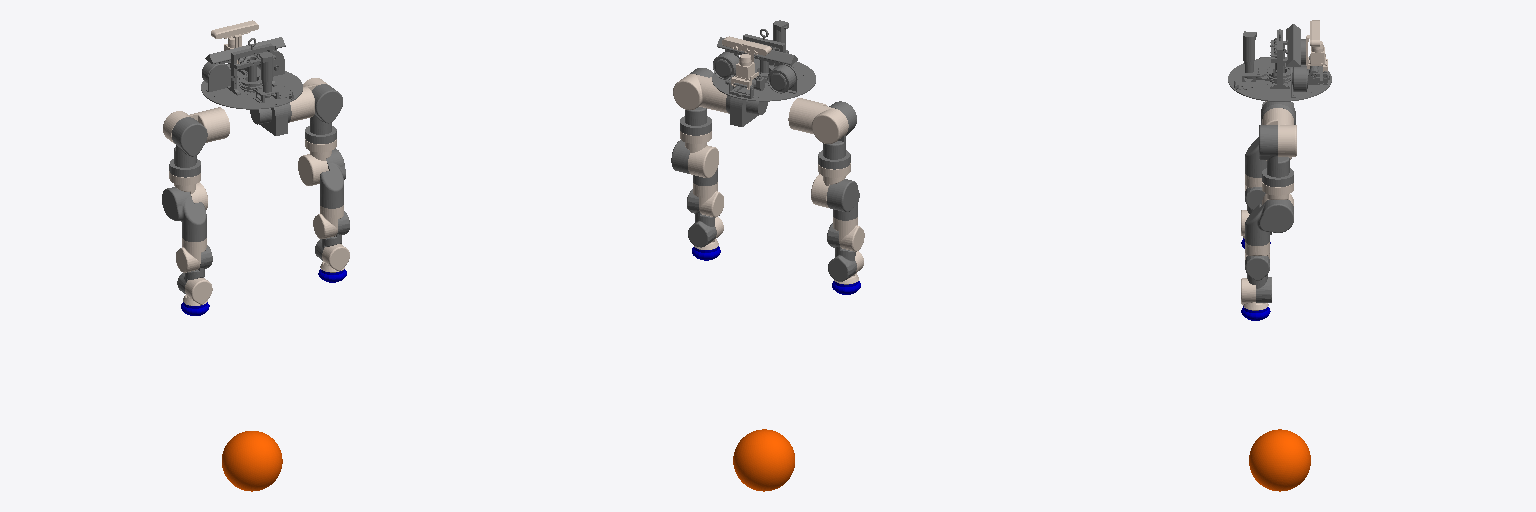
--- Render facts (derived) ---
3 views of the same robot in one strip: view 1: azimuth 30°, elevation 25°; view 2: azimuth 150°, elevation 25°; view 3: azimuth 270°, elevation 25° (orthographic).
Robot: ballbot — 30 links, 29 joints (7 revolute, 2 prismatic, 20 fixed); root link base_link; default pose: all joints at 0.
Links seen in each view (by area): view 1: turret_plate_link, Link_Ball, LArm2, LArm4, RArm2, RArm4, LArm1, RArm3, RArm0, RArm1, LArm5, RArm5 (+4 smaller); view 2: turret_plate_link, Link_Ball, LArm1, RArm1, RArm3, LArm2, turret_tilt_link, LArm4, LArm6, RArm6, RArm2, RArm0 (+4 smaller); view 3: turret_plate_link, Link_Ball, RArm4, RArm2, RArm1, RArm6, turret_tilt_link, LArm4.
Link boxes in pixels (bbox=[...]): turret_plate_link: bbox=[201, 37, 302, 109]; Link_Ball: bbox=[222, 431, 282, 491]; LArm2: bbox=[169, 117, 207, 177]; LArm4: bbox=[162, 187, 206, 241]; RArm2: bbox=[305, 84, 342, 143]; RArm4: bbox=[320, 148, 345, 208]; LArm1: bbox=[163, 107, 229, 143]; RArm3: bbox=[298, 139, 336, 185]; RArm0: bbox=[250, 93, 291, 135]; RArm1: bbox=[289, 78, 329, 122]; LArm5: bbox=[176, 238, 206, 272]; RArm5: bbox=[313, 205, 343, 238]; turret_plate_link: bbox=[712, 20, 815, 101]; Link_Ball: bbox=[733, 429, 794, 491]; LArm1: bbox=[788, 98, 848, 143]; RArm1: bbox=[673, 74, 728, 113]; RArm3: bbox=[680, 131, 718, 177]; LArm2: bbox=[818, 101, 856, 169]; turret_tilt_link: bbox=[722, 36, 771, 89]; LArm4: bbox=[827, 179, 859, 220]; LArm6: bbox=[827, 223, 856, 281]; RArm6: bbox=[687, 189, 716, 247]; RArm2: bbox=[680, 68, 713, 135]; RArm0: bbox=[726, 95, 767, 126]; turret_plate_link: bbox=[1228, 24, 1331, 101]; Link_Ball: bbox=[1249, 429, 1310, 491]; RArm4: bbox=[1245, 200, 1293, 245]; RArm2: bbox=[1259, 125, 1293, 186]; RArm1: bbox=[1262, 108, 1296, 156]; RArm6: bbox=[1245, 256, 1271, 302]; turret_tilt_link: bbox=[1306, 20, 1327, 71]; LArm4: bbox=[1245, 137, 1266, 177].
Size in the robot's own frame: 0.676 by 0.3556 by 1.73 metres.
20 mesh visuals loaded from 15 distinct referenced files (12 binary STL, 1 OBJ); not drawn: 2 (reference not matched to a file when rendering).

robot.urdf — ballbot:
<?xml version="1.0" encoding="utf-8"?>
<!-- =================================================================================== -->
<!-- |    This document was autogenerated by xacro from ballbot_plus_fixedbase.urdf.xacro | -->
<!-- |    EDITING THIS FILE BY HAND IS NOT RECOMMENDED                                 | -->
<!-- =================================================================================== -->
<!-- Overview: Ballbot Plus (ballbot + 2x7DOF arms) reprsented as a floating base system -->
<robot name="ballbot">
  <!-- CAD -->
  <material name="black">
    <color rgba="0.0 0.0 0.0 1.0"/>
  </material>

  <material name="cian">
    <color rgba="0.0 0.8 0.8 1.0"/>
  </material>

  <material name="blue">
    <color rgba="0.0 0.0 0.8 1.0"/>
  </material>
  <material name="green">
    <color rgba="0.0 0.8 0.0 1.0"/>
  </material>
  <material name="dark_grey">
    <color rgba="0.2 0.2 0.2 1.0"/>
  </material>
  <material name="grey">
    <color rgba="0.5 0.5 0.5 1.0"/>
  </material>
  <material name="light_grey">
    <color rgba="0.8 0.8 0.8 1.0"/>
  </material>
  <material name="orange">
    <color rgba="1.0 0.423529411765 0.0392156862745 1.0"/>
  </material>
  <material name="brown">
    <color rgba="0.870588235294 0.811764705882 0.764705882353 1.0"/>
  </material>
  <material name="white">
    <color rgba="1.0 1.0 1.0 1.0"/>
  </material>
  <material name="yellow">
    <color rgba="0.8 0.68 0.0 1.0"/>
  </material>
  <material name="red">
    <color rgba="1.0 0.0 0.0 1"/>
  </material>
  <material name="aluminum">
    <color rgba="0.5 0.5 0.5 1"/>
  </material>
  <!-- Use of macros to assemble the robot -->
  <!-- ====================================== -->
  <!-- Used for fixing robot to Gazebo 'base_link' -->
  <link name="base_link"/>
  <link name="Link_Xtran">
    <inertial>
      <origin xyz="0.00000 0.00000 0.00000"/>
      <mass value="0.00001"/>
      <inertia ixx="0.0000001" ixy="0.0" ixz="0.0" iyy="0.0000001" iyz="0.0" izz="0.0000001"/>
    </inertial>
  </link>
  <link name="Link_Ytran">
    <inertial>
      <origin xyz="0.00000 0.00000 0.00000"/>
      <mass value="0.00001"/>
      <inertia ixx="0.0000001" ixy="0.0" ixz="0.0" iyy="0.0000001" iyz="0.0" izz="0.0000001"/>
    </inertial>
  </link>
  <link name="Link_Ball">
    <visual>
      <origin rpy="0.0 0.0 0.0" xyz="0.0 0.0 0.0"/>
      <geometry>
        <mesh filename="package://ballbot_arm_description/meshes/v2020/ball.stl"/>
      </geometry>
      <material name="orange"/>
    </visual>
    <collision>
      <origin rpy="0 0 0" xyz="0 0 0"/>
      <geometry>
        <mesh filename="package://ballbot_arm_description/meshes/v2020/ball.stl"/>
      </geometry>
    </collision>
    <inertial>
      <origin xyz="0.0 0.0 0.0"/>
      <mass value="2.72"/>
      <inertia ixx="0.01220" ixy="0.00000" ixz="0.00000" iyy="0.01220" iyz="0.00000" izz="0.01220"/>
    </inertial>
  </link>
  <link name="Link_Pitch">
    <inertial>
      <origin xyz="0.00000 0.00000 0.00000"/>
      <mass value="0.00001"/>
      <inertia ixx="0.0000001" ixy="0.0" ixz="0.0" iyy="0.0000001" iyz="0.0" izz="0.0000001"/>
    </inertial>
  </link>
  <link name="Link_Roll">
    <inertial>
      <origin xyz="0.00000 0.00000 0.00000"/>
      <mass value="0.00001"/>
      <inertia ixx="0.0000001" ixy="0.0" ixz="0.0" iyy="0.0000001" iyz="0.0" izz="0.0000001"/>
    </inertial>
  </link>
  <link name="Link_Yaw">
    <inertial>
      <origin xyz="0.00000 0.00000 0.00000"/>
      <mass value="0.00001"/>
      <inertia ixx="0.0000001" ixy="0.0" ixz="0.0" iyy="0.0000001" iyz="0.0" izz="0.0000001"/>
    </inertial>
  </link>
  <!-- Joints -->
  <joint name="Joint_World_Xtran" type="prismatic">
    <origin rpy="0.0 0.0 0.0" xyz="0.0 0. 0.0"/>
    <parent link="base_link"/>
    <child link="Link_Xtran"/>
    <limit effort="30" lower="-10" upper="10" velocity="1.0"/>
    <axis xyz="0 -1 0"/>
  </joint>
  <joint name="Joint_World_Ytran" type="prismatic">
    <origin rpy="0.0 0.0 0.0" xyz="0.0 0.0 0.0"/>
    <parent link="Link_Xtran"/>
    <child link="Link_Ytran"/>
    <limit effort="30" lower="-10" upper="10" velocity="1.0"/>
    <axis xyz="1 0 0"/>
  </joint>
  <joint name="Joint_World_Ball" type="fixed">
    <origin rpy="0.0 0.0 0.0" xyz="0.0 0.0 0.105838"/>
    <parent link="Link_Ytran"/>
    <child link="Link_Ball"/>
    <axis xyz="0 0 1"/>
  </joint>
  <joint name="xAngle" type="revolute">
    <origin rpy="0.0 0.0 0.0" xyz="0.0 0.0 0.0"/>
    <parent link="Link_Ball"/>
    <child link="Link_Pitch"/>
    <limit effort="30" lower="-0.349065850399" upper="0.349065850399" velocity="1.0"/>
    <axis xyz="1 0 0"/>
  </joint>
  <joint name="yAngle" type="revolute">
    <origin rpy="0.0 0.0 0.0" xyz="0.00000 0.00000 0.00000"/>
    <parent link="Link_Pitch"/>
    <child link="Link_Roll"/>
    <limit effort="30" lower="-0.349065850399" upper="0.349065850399" velocity="1.0"/>
    <axis xyz="0 1 0"/>
  </joint>
  <joint name="yaw" type="revolute">
    <origin rpy="0.0 0.0 0.0" xyz="0.00000 0.00000 0.0"/>
    <parent link="Link_Roll"/>
    <child link="Link_Yaw"/>
    <limit effort="30" lower="-3.14159265359" upper="3.14159265359" velocity="1.0"/>
    <axis xyz="0 0 1"/>
  </joint>
  <joint name="JBalltoBody" type="fixed">
    <origin rpy="0.0 0.0 1.5707963268" xyz="0.0 0.0 0.762"/>
    <parent link="Link_Yaw"/>
    <child link="Link_Body"/>
    <limit effort="30" velocity="1.0"/>
    <axis xyz="0 0 1"/>
  </joint>
  <link name="Link_Body">
    <inertial>
      <origin xyz="0.015 0.0005 -0.015"/>
      <mass value="64.86"/>
      <inertia ixx="10.61648" ixy="0.00000" ixz="0.00000" iyy="10.61648" iyz="0.00000" izz="0.66440"/>
    </inertial>
    <visual>
      <origin rpy="0 0 0" xyz="0 0 -0.762"/>
      <geometry>
        <mesh filename="package://ballbot_arm_description/meshes/v2020/ballbot_body_v2021.stl"/>
      </geometry>
      <material name="yellow"/>
    </visual>
    <collision>
      <origin rpy="0 0 0" xyz="0 0 -0.0595"/>
      <geometry>
        <cylinder length="1.105" radius="0.184"/>
      </geometry>
    </collision>
  </link>
  <joint name="turret_pan" type="fixed">
    <origin rpy="0 0 0" xyz="0 0 0.656162"/>
    <parent link="Link_Body"/>
    <child link="turret_plate_link"/>
    <limit effort="1000." lower="-6.1" upper="6.1" velocity="1.0"/>
    <axis xyz="0 0 1"/>
    <dynamics damping="1.0" friction="1.0"/>
  </joint>
  <link name="turret_plate_link">
    <visual>
      <origin rpy="0 0 0" xyz="0.0 0.0 0.0"/>
      <geometry>
        <mesh filename="package://ballbot_arm_description/meshes/v2020/turret_pan.stl"/>
      </geometry>
      <material name="grey"/>
    </visual>
    <inertial>
      <origin xyz="0.0 0.0 0.0"/>
      <mass value="0.0"/>
      <inertia ixx="0.0" ixy="0.00000" ixz="0.00000" iyy="0.0" iyz="0.00000" izz="0.0"/>
    </inertial>
  </link>
  <joint name="turret_tilt" type="fixed">
    <origin rpy="1.5707963268 0 3.14159265359" xyz="0.15557 -0.0347980 0.0541020"/>
    <parent link="turret_plate_link"/>
    <child link="turret_tilt_link"/>
    <limit effort="1000.0" lower="-0.05" upper="1.5707963268" velocity="1.0"/>
    <axis xyz="0 0 1"/>
    <dynamics damping="1.0" friction="1.0"/>
  </joint>
  <link name="turret_tilt_link">
    <visual>
      <origin rpy="0 0 0" xyz="0.0 0.0 0.0"/>
      <geometry>
        <mesh filename="package://ballbot_arm_description/meshes/v2020/turret_tilt.stl"/>
      </geometry>
      <material name="brown"/>
    </visual>
    <inertial>
      <origin xyz="0.0 0.0 0.0"/>
      <mass value="0.0"/>
      <inertia ixx="0.0" ixy="0.00000" ixz="0.00000" iyy="0.0" iyz="0.00000" izz="0.0"/>
    </inertial>
  </link>
  <!-- ====================================== -->
  <!-- Right Arm -->
  <joint name="JRA0" type="fixed">
    <origin rpy="-1.5707963268 -1.5707963268 3.14159265359" xyz="-0.00635 -0.12314  0.56715"/>
    <parent link="Link_Body"/>
    <child link="RArm0"/>
    <axis xyz="0 0 1"/>
    <dynamics damping="1.0" friction="1.0"/>
  </joint>
  <link name="RArm0">
    <inertial>
      <origin rpy="0 0 0" xyz="-0.00832 0.0 -0.0418"/>
      <mass value="2.367"/>
      <inertia ixx="0.00366" ixy="0.0" ixz="-0.0000208" iyy="0.00398" iyz="0.0" izz="0.00461"/>
    </inertial>
    <visual>
      <origin rpy="0 0 0" xyz="0 0 0"/>
      <geometry>
        <mesh filename="package://ballbot_arm_description/meshes/link_base.obj"/>
      </geometry>
      <material name="grey"/>
    </visual>
    <collision>
      <origin rpy="0 0 0" xyz="0 0 0"/>
      <geometry>
        <mesh filename="package://ballbot_arm_description/meshes/link_base.obj"/>
      </geometry>
    </collision>
  </link>
  <link name="RArm1">
    <inertial>
      <origin xyz="0.0 0.00329 0.0865"/>
      <mass value="4.181"/>
      <inertia ixx="0.0172" ixy="0.0000173" ixz="0.0" iyy="0.0170" iyz="-0.000935" izz="0.00602"/>
    </inertial>
    <visual>
      <origin rpy="0 0 3.14159265359" xyz="0.0 0.0 0.0"/>
      <geometry>
        <mesh filename="package://ballbot_arm_description/meshes/v2020/link_shoulder_2_base.stl"/>
      </geometry>
      <material name="brown"/>
    </visual>
    <collision>
      <origin rpy="0 0 0" xyz="0.0 0.0 -0.05525"/>
      <geometry>
        <cylinder length="0.1105" radius="0.05"/>
      </geometry>
    </collision>
  </link>
  <link name="RArm2">
    <inertial>
      <origin xyz="-0.123 0.000 -0.0507"/>
      <mass value="1.832"/>
      <inertia ixx="0.00241" ixy="0.0" ixz="-0.000742" iyy="0.00559" iyz="0.0" izz="0.00563"/>
    </inertial>
    <visual>
      <origin rpy="0 0 0" xyz="0.0 0.0 0.0"/>
      <geometry>
        <mesh filename="package://ballbot_arm_description/meshes/v2020/link_shoulder_2_uparm.stl"/>
      </geometry>
      <material name="grey"/>
    </visual>
    <collision>
      <origin rpy="0 0 0" xyz="0.0 0.0 -0.05525"/>
      <geometry>
        <cylinder length="0.1105" radius="0.05"/>
      </geometry>
    </collision>
  </link>
  <link name="RArm3">
    <inertial>
      <origin xyz="0.0 -0.00963 0.0773"/>
      <mass value="1.821"/>
      <inertia ixx="0.00375" ixy="0.0" ixz="0.0" iyy="0.00338" iyz="0.000169" izz="0.00278"/>
    </inertial>
    <visual>
      <origin rpy="0 0 0" xyz="0.0 0.0 -0.02718"/>
      <geometry>
        <mesh filename="package://ballbot_arm_description/meshes/v2020/link_upperarm.stl"/>
      </geometry>
      <material name="brown"/>
    </visual>
    <collision>
      <origin rpy="0 0 0" xyz="0.0 0.0 -0.05525"/>
      <geometry>
        <cylinder length="0.1105" radius="0.05"/>
      </geometry>
    </collision>
  </link>
  <link name="RArm4">
    <inertial>
      <origin xyz="-0.0758 0.0594 -0.0448"/>
      <mass value="1.105"/>
      <inertia ixx="0.00186" ixy="0.000915" ixz="-0.000456" iyy="0.00276" iyz="0.000276" izz="0.00356"/>
    </inertial>
    <visual>
      <origin rpy="0 0 0" xyz="0.0 0.0 0.0"/>
      <geometry>
        <mesh filename="package://ballbot_arm_description/meshes/v2020/link_forearm_r.stl"/>
      </geometry>
      <material name="grey"/>
    </visual>
    <collision>
      <origin rpy="0 0 0" xyz="0.0 0.0 -0.05525"/>
      <geometry>
        <cylinder length="0.1105" radius="0.05"/>
      </geometry>
    </collision>
  </link>
  <link name="RArm5">
    <inertial>
      <origin xyz="-0.00147 0.0 -0.0537"/>
      <mass value="0.973"/>
      <inertia ixx="0.00106" ixy="0.0" ixz="-0.0000188" iyy="0.00123" iyz="0.0" izz="0.00101"/>
    </inertial>
    <visual>
      <origin rpy="0 0 0" xyz="0.0 0.0 0.0"/>
      <geometry>
        <mesh filename="package://ballbot_arm_description/meshes/v2020/link_forearm_2_wrist.stl"/>
      </geometry>
      <material name="brown"/>
    </visual>
    <collision>
      <origin rpy="0 0 0" xyz="0.0 0.0 0.0495"/>
      <geometry>
        <cylinder length="0.099" radius="0.0375"/>
      </geometry>
    </collision>
  </link>
  <link name="RArm6">
    <inertial>
      <origin xyz="0.0947 0.00543 0.0386"/>
      <mass value="1.013"/>
      <inertia ixx="0.00106" ixy="-0.0000831" ixz="-0.000236" iyy="0.00193" iyz="-0.0000139" izz="0.00215"/>
    </inertial>
    <visual>
      <origin rpy="0 0 0" xyz="0.0 0.0 0.0"/>
      <geometry>
        <mesh filename="package://ballbot_arm_description/meshes/v2020/link_wrist_mid.stl"/>
      </geometry>
      <material name="grey"/>
    </visual>
    <collision>
      <origin rpy="0 0 0" xyz="0.0 0.0 0.0495"/>
      <geometry>
        <cylinder length="0.099" radius="0.0375"/>
      </geometry>
    </collision>
  </link>
  <link name="RArm7">
    <inertial>
      <origin xyz="0.0235 -0.000000178 0.0295"/>
      <mass value="0.195"/>
      <inertia ixx="0.000257" ixy="0.0" ixz="-0.0000691" iyy="0.000325" iyz="0.0" izz="0.000362"/>
    </inertial>
    <visual>
      <origin rpy="0 0 0" xyz="0.0 0.0 0.0"/>
      <geometry>
        <mesh filename="package://ballbot_arm_description/meshes/v2020/link_wrist_2_hand.stl"/>
      </geometry>
      <material name="brown"/>
    </visual>
    <collision>
      <origin rpy="0 0 0" xyz="0.0 0.0 0.0495"/>
      <geometry>
        <cylinder length="0.099" radius="0.0375"/>
      </geometry>
    </collision>
  </link>
  <joint name="JRA1" type="revolute">
    <origin rpy="0.0 0.0 0.0" xyz="0.0 0.0 0.0"/>
    <parent link="RArm0"/>
    <child link="RArm1"/>
    <limit effort="30.0" lower="-2.96705972839" upper="2.96705972839" velocity="3.0"/>
    <axis xyz="0 0 1"/>
    <dynamics damping="0.7" friction="0.5"/>
  </joint>
  <joint name="JRA2" type="fixed">
    <origin rpy="-1.5707963705062866 0.0 -0.0" xyz="0.00000 0.05436 0.14900"/>
    <parent link="RArm1"/>
    <child link="RArm2"/>
    <limit effort="30.0" lower="-0.0349065850399" upper="1.5707963268" velocity="3.0"/>
    <axis xyz="0 0 1"/>
    <dynamics damping="0.7" friction="0.5"/>
  </joint>
  <joint name="JRA3" type="fixed">
    <origin rpy="3.141592653589793 -1.570796282091413 3.141592653589793" xyz="-0.17786 0.00000 -0.05436"/>
    <parent link="RArm2"/>
    <child link="RArm3"/>
    <limit effort="30.0" lower="-1.5707963268" upper="1.5707963268" velocity="3.0"/>
    <axis xyz="0 0 1"/>
    <dynamics damping="0.7" friction="0.5"/>
  </joint>
  <joint name="JRA4" type="revolute">
    <origin rpy="-2.3561944901923457 1.5707962635746238 2.3561944901923457" xyz="0.00000 -0.05436 0.08522"/>
    <parent link="RArm3"/>
    <child link="RArm4"/>
    <limit effort="30.0" lower="-0.349065850399" upper="2.79252680319" velocity="3.0"/>
    <axis xyz="0 0 1"/>
    <dynamics damping="0.7" friction="0.5"/>
  </joint>
  <joint name="JRA5" type="fixed">
    <origin rpy="0 1.5707963268 0" xyz="-0.13200 0.07000 -0.05073"/>
    <parent link="RArm4"/>
    <child link="RArm5"/>
    <limit effort="30.0" lower="-2.82743338823" upper="2.82743338823" velocity="3.0"/>
    <axis xyz="0 0 1"/>
    <dynamics damping="0.7" friction="0.5"/>
  </joint>
  <joint name="JRA6" type="fixed">
    <origin rpy="0 1.5707963268 0" xyz="-0.04115 0.0 -0.06"/>
    <parent link="RArm5"/>
    <child link="RArm6"/>
    <limit effort="30.0" lower="-1.49599650171" upper="1.49599650171" velocity="3.0"/>
    <axis xyz="0 0 1"/>
    <dynamics damping="0.7" friction="0.5"/>
  </joint>
  <joint name="JRA7" type="fixed">
    <origin rpy="1.5707963268 0.0 0.0" xyz="0.10750 0.04650 0.041150"/>
    <parent link="RArm6"/>
    <child link="RArm7"/>
    <limit effort="30.0" lower="-1.49599650171" upper="1.49599650171" velocity="3.0"/>
    <axis xyz="0 0 1"/>
    <dynamics damping="0.7" friction="0.5"/>
  </joint>
  <link name="toolR">
    <inertial>
      <origin xyz="0.0 0.0 0.0"/>
      <mass value="0.241"/>
      <inertia ixx="0.00001" ixy="0.0" ixz="0.0" iyy="0.00001" iyz="0.0" izz="0.00001"/>
    </inertial>
  </link>
  <joint name="RArm7-toolR" type="fixed">
    <origin rpy="0 1.5707963268 0" xyz="0.055 0 0.04065"/>
    <axis xyz="0 0 1"/>
    <parent link="RArm7"/>
    <child link="toolR"/>
  </joint>
  <joint name="JR_KnobHand" type="fixed">
    <origin rpy="0. 0. 0." xyz="0. 0. 0."/>
    <axis xyz="0 0 1"/>
    <parent link="toolR"/>
    <child link="R_knobhand_link"/>
  </joint>
  <link name="R_knobhand_link">
    <visual>
      <origin rpy="0 0 0" xyz="0 0 0"/>
      <geometry>
        <mesh filename="package://ballbot_arm_description/meshes/endeffectors/knob_hand.stl"/>
      </geometry>
      <material name="blue"/>
    </visual>
    <collision>
      <origin rpy="0 0 0" xyz="0 0 0"/>
      <geometry>
        <mesh filename="package://ballbot_arm_description/meshes/endeffectors/knob_hand.stl"/>
      </geometry>
    </collision>
    <inertial>
      <origin rpy="0 0 0" xyz="0.0 0.0 0.0235592"/>
      <mass value="0.134"/>
      <inertia ixx="3.311269" ixy="0.0" ixz="0.0" iyy="3.311269" iyz="0.0" izz="2.919272"/>
    </inertial>
  </link>
  <!-- ====================================== -->
  <!-- Left Arm-->
  <joint name="JLA0" type="fixed">
    <origin rpy="1.5707963268 -1.5707963268 3.14159265359" xyz="-0.00635 0.12314 0.56715"/>
    <parent link="Link_Body"/>
    <child link="LArm0"/>
    <axis xyz="0 0 1"/>
  </joint>
  <link name="LArm0">
    <inertial>
      <origin rpy="0 0 0" xyz="-0.00832 0.0 -0.0418"/>
      <mass value="2.367"/>
      <inertia ixx="0.00366" ixy="0.0" ixz="-0.0000208" iyy="0.00398" iyz="0.0" izz="0.00461"/>
    </inertial>
    <visual>
      <origin rpy="0 0 0" xyz="0 0 0"/>
      <geometry>
        <mesh filename="package://ballbot_arm_description/meshes/v2020/link_base.stl"/>
      </geometry>
      <material name="grey"/>
    </visual>
    <collision>
      <origin rpy="0 0 0" xyz="0 0 0"/>
      <geometry>
        <mesh filename="package://ballbot_arm_description/meshes/v2020/link_base.stl"/>
      </geometry>
    </collision>
  </link>
  <link name="LArm1">
    <inertial>
      <origin xyz="0.0 0.00329 0.0865"/>
      <mass value="4.181"/>
      <inertia ixx="0.0172" ixy="0.0000173" ixz="0.0" iyy="0.0170" iyz="-0.000935" izz="0.00602"/>
    </inertial>
    <visual>
      <origin rpy="0 0 0" xyz="0.0 0.0 0.0"/>
      <geometry>
        <mesh filename="package://ballbot_arm_description/meshes/v2020/link_shoulder_2_base.stl"/>
      </geometry>
      <material name="brown"/>
    </visual>
    <collision>
      <origin rpy="0 0 0" xyz="0.0 0.0 -0.05525"/>
      <geometry>
        <cylinder length="0.1105" radius="0.05"/>
      </geometry>
      <material name="blue"/>
    </collision>
  </link>
  <link name="LArm2">
    <inertial>
      <origin xyz="-0.123 0.000 -0.0507"/>
      <mass value="1.832"/>
      <inertia ixx="0.00241" ixy="0.0" ixz="-0.000742" iyy="0.00559" iyz="0.0" izz="0.00563"/>
    </inertial>
    <visual>
      <origin rpy="0 0 0" xyz="0.0 0.0 0.0"/>
      <geometry>
        <mesh filename="package://ballbot_arm_description/meshes/v2020/link_shoulder_2_uparm.stl"/>
      </geometry>
      <material name="grey"/>
    </visual>
    <collision>
      <origin rpy="0 0 0" xyz="0.0 0.0 -0.05525"/>
      <geometry>
        <cylinder length="0.1105" radius="0.05"/>
      </geometry>
      <material name="blue"/>
    </collision>
  </link>
  <link name="LArm3">
    <inertial>
      <origin xyz="0.0 -0.00963 0.0773"/>
      <mass value="1.821"/>
      <inertia ixx="0.00375" ixy="0.0" ixz="0.0" iyy="0.00338" iyz="0.000169" izz="0.00278"/>
    </inertial>
    <visual>
      <origin rpy="0 0 0" xyz="0.0 0.0 -0.02718"/>
      <geometry>
        <mesh filename="package://ballbot_arm_description/meshes/v2020/link_upperarm.stl"/>
      </geometry>
      <material name="brown"/>
    </visual>
    <collision>
      <origin rpy="0 0 0" xyz="0.0 0.0 -0.05525"/>
      <geometry>
        <cylinder length="0.1105" radius="0.05"/>
      </geometry>
      <material name="blue"/>
    </collision>
  </link>
  <link name="LArm4">
    <inertial>
      <origin xyz="-0.0758 -0.0594 -0.0448"/>
      <mass value="1.105"/>
      <inertia ixx="0.00186" ixy="-0.000915" ixz="-0.000456" iyy="0.00276" iyz="-0.000276" izz="0.00356"/>
    </inertial>
    <visual>
      <origin rpy="0 0 0" xyz="0.0 0.0 0.0"/>
      <geometry>
        <mesh filename="package://ballbot_arm_description/meshes/v2020/link_forearm.stl"/>
      </geometry>
      <material name="grey"/>
    </visual>
    <collision>
      <origin rpy="0 0 0" xyz="0.0 0.0 -0.05525"/>
      <geometry>
        <cylinder length="0.1105" radius="0.05"/>
      </geometry>
      <material name="blue"/>
    </collision>
  </link>
  <link name="LArm5">
    <inertial>
      <origin xyz="-0.00147 0.0 -0.0537"/>
      <mass value="0.973"/>
      <inertia ixx="0.00106" ixy="0.0" ixz="-0.0000188" iyy="0.00123" iyz="0.0" izz="0.00101"/>
    </inertial>
    <visual>
      <origin rpy="0 0 0" xyz="0.0 0.0 0.0"/>
      <geometry>
        <mesh filename="package://ballbot_arm_description/meshes/v2020/link_forearm_2_wrist.stl"/>
      </geometry>
      <material name="brown"/>
    </visual>
    <collision>
      <origin rpy="0 0 0" xyz="0.0 0.0 0.0495"/>
      <geometry>
        <cylinder length="0.099" radius="0.0375"/>
      </geometry>
      <material name="blue"/>
    </collision>
  </link>
  <link name="LArm6">
    <inertial>
      <origin xyz="0.0947 0.00543 0.0386"/>
      <mass value="1.013"/>
      <inertia ixx="0.00106" ixy="-0.0000831" ixz="-0.000236" iyy="0.00193" iyz="-0.0000139" izz="0.00215"/>
    </inertial>
    <visual>
      <origin rpy="0 0 0" xyz="0.0 0.0 0.0"/>
      <geometry>
        <mesh filename="package://ballbot_arm_description/meshes/v2020/link_wrist_mid.stl"/>
      </geometry>
      <material name="grey"/>
    </visual>
    <collision>
      <origin rpy="0 0 0" xyz="0.0 0.0 0.0495"/>
      <geometry>
        <cylinder length="0.099" radius="0.0375"/>
      </geometry>
      <material name="blue"/>
    </collision>
  </link>
  <link name="LArm7">
    <inertial>
      <origin xyz="0.0235 -0.000000178 0.0295"/>
      <mass value="0.195"/>
      <inertia ixx="0.000257" ixy="0.0" ixz="-0.0000691" iyy="0.000325" iyz="0.0" izz="0.000362"/>
    </inertial>
    <visual>
      <origin rpy="0 0 0" xyz="0.0 0.0 0.0"/>
      <geometry>
        <mesh filename="package://ballbot_arm_description/meshes/v2020/link_wrist_2_hand.stl"/>
      </geometry>
      <material name="brown"/>
    </visual>
    <collision>
      <origin rpy="0 0 0" xyz="0.0 0.0 0.0495"/>
      <geometry>
        <cylinder length="0.099" radius="0.0375"/>
      </geometry>
      <material name="blue"/>
    </collision>
  </link>
  <joint name="JLA1" type="revolute">
    <origin rpy="0.0 0.0 0.0" xyz="0.0 0.0 0.0"/>
    <parent link="LArm0"/>
    <child link="LArm1"/>
    <limit effort="30.0" lower="-2.96705972839" upper="2.96705972839" velocity="3.0"/>
    <axis xyz="0 0 1"/>
    <dynamics damping="0.7" friction="0.5"/>
  </joint>
  <joint name="JLA2" type="fixed">
    <origin rpy="1.5707963705062866 -0.0 0.0" xyz="0.00000 -0.05436 0.14900"/>
    <parent link="LArm1"/>
    <child link="LArm2"/>
    <limit effort="30.0" lower="-1.5707963268" upper="0.0349065850399" velocity="3.0"/>
    <axis xyz="0 0 1"/>
    <dynamics damping="0.7" friction="0.5"/>
  </joint>
  <joint name="JLA3" type="fixed">
    <origin rpy="2.0344439357957036 1.5707962290814481 -1.1071487177940917" xyz="-0.17786 0.00000 -0.05436"/>
    <parent link="LArm2"/>
    <child link="LArm3"/>
    <limit effort="30.0" lower="-1.5707963268" upper="1.5707963268" velocity="3.0"/>
    <axis xyz="0 0 1"/>
    <dynamics damping="0.7" friction="0.5"/>
  </joint>
  <joint name="JLA4" type="revolute">
    <origin rpy="-2.3561944901923457 1.5707962635746238 2.3561944901923457" xyz="0.00000 -0.05436 0.08522"/>
    <parent link="LArm3"/>
    <child link="LArm4"/>
    <limit effort="30.0" lower="-2.79252680319" upper="0.349065850399" velocity="3.0"/>
    <axis xyz="0 0 1"/>
    <dynamics damping="0.7" friction="0.5"/>
  </joint>
  <joint name="JLA5" type="fixed">
    <origin rpy="-1.5707963268 -1.5707963268 -1.5707963268" xyz="-0.13200 -0.07000 -0.05073"/>
    <parent link="LArm4"/>
    <child link="LArm5"/>
    <limit effort="30.0" lower="-2.82743338823" upper="2.82743338823" velocity="3.0"/>
    <axis xyz="0 0 1"/>
    <dynamics damping="0.7" friction="0.5"/>
  </joint>
  <joint name="JLA6" type="fixed">
    <origin rpy="0 1.5707963268 0" xyz="-0.041150 0.0 -0.06000"/>
    <parent link="LArm5"/>
    <child link="LArm6"/>
    <limit effort="30.0" lower="-1.49599650171" upper="1.49599650171" velocity="3.0"/>
    <axis xyz="0 0 1"/>
    <dynamics damping="0.7" friction="0.5"/>
  </joint>
  <joint name="JLA7" type="fixed">
    <origin rpy="1.5707963268 0.0 0.0" xyz="0.10750 0.04650 0.041150"/>
    <parent link="LArm6"/>
    <child link="LArm7"/>
    <limit effort="30.0" lower="-1.49599650171" upper="1.49599650171" velocity="3.0"/>
    <axis xyz="0 0 1"/>
    <dynamics damping="0.7" friction="0.5"/>
  </joint>
  <link name="toolL">
    <inertial>
      <origin xyz="0.0 0.0 0.0"/>
      <mass value="0.241"/>
      <inertia ixx="0.00001" ixy="0.0" ixz="0.0" iyy="0.00001" iyz="0.0" izz="0.00001"/>
    </inertial>
  </link>
  <joint name="LArm7-toolL" type="fixed">
    <origin rpy="0 1.5707963268 0" xyz="0.055 0 0.04065"/>
    <axis xyz="0 0 1"/>
    <parent link="LArm7"/>
    <child link="toolL"/>
  </joint>
  <joint name="JL_KnobHand" type="fixed">
    <origin rpy="0. 0. 0." xyz="0. 0. 0."/>
    <axis xyz="0 0 1"/>
    <parent link="toolL"/>
    <child link="L_knobhand_link"/>
  </joint>
  <link name="L_knobhand_link">
    <visual>
      <origin rpy="0 0 0" xyz="0 0 0"/>
      <geometry>
        <mesh filename="package://ballbot_arm_description/meshes/endeffectors/knob_hand.stl"/>
      </geometry>
      <material name="blue"/>
    </visual>
    <collision>
      <origin rpy="0 0 0" xyz="0 0 0"/>
      <geometry>
        <mesh filename="package://ballbot_arm_description/meshes/endeffectors/knob_hand.stl"/>
      </geometry>
    </collision>
    <inertial>
      <origin rpy="0 0 0" xyz="0.0 0.0 0.0235592"/>
      <mass value="0.134"/>
      <inertia ixx="3.311269" ixy="0.0" ixz="0.0" iyy="3.311269" iyz="0.0" izz="2.919272"/>
    </inertial>
  </link>
</robot>
